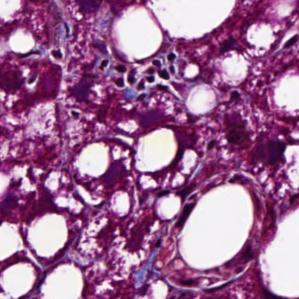inflammation: (222, 118, 283, 171), (64, 54, 107, 107), (118, 62, 176, 101)
